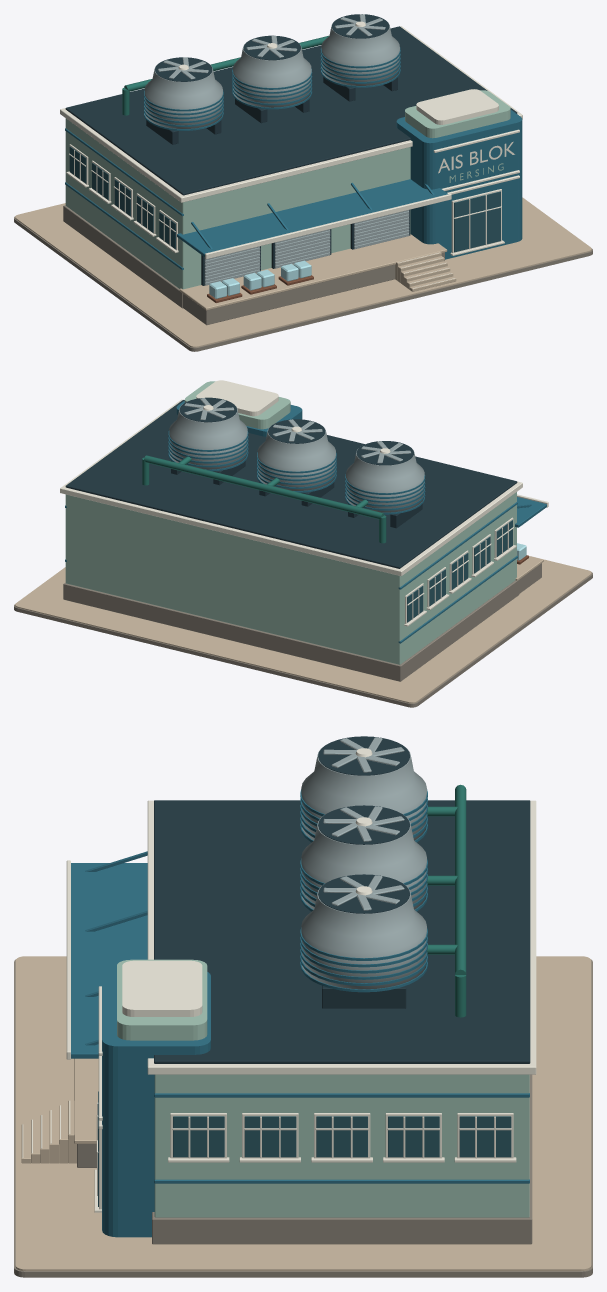
3 renders of one model, top to bottom at view 1: azimuth 30°, elevation 25°; view 2: azimuth 150°, elevation 25°; view 3: azimuth 270°, elevation 25°, orthographic. The views are drawn at different scales.
Visible parts, largest first — view 1: Insulated Ice Hall, Dispatch Dock, Quay Apron, Ammonia Condensers, Streamline Frontispiece; view 2: Insulated Ice Hall, Ammonia Condensers, Quay Apron, Streamline Frontispiece, Dispatch Dock; view 3: Insulated Ice Hall, Quay Apron, Ammonia Condensers, Streamline Frontispiece, Dispatch Dock.
Part boxes in pixels (x1,y1,x2,y2): Insulated Ice Hall: (60, 26, 522, 308); Dispatch Dock: (177, 179, 456, 325); Quay Apron: (14, 197, 592, 351); Ammonia Condensers: (122, 14, 400, 144); Streamline Frontispiece: (396, 89, 522, 259); Insulated Ice Hall: (60, 399, 522, 681); Ammonia Condensers: (142, 397, 425, 543); Quay Apron: (14, 559, 592, 707); Streamline Frontispiece: (176, 380, 302, 436); Dispatch Dock: (515, 494, 548, 593); Insulated Ice Hall: (147, 800, 536, 1244); Quay Apron: (14, 956, 592, 1277); Ammonia Condensers: (300, 736, 466, 1017); Streamline Frontispiece: (94, 959, 210, 1237); Dispatch Dock: (21, 851, 147, 1167).
Size of the model in its own units: 27 by 11.62 by 21.
